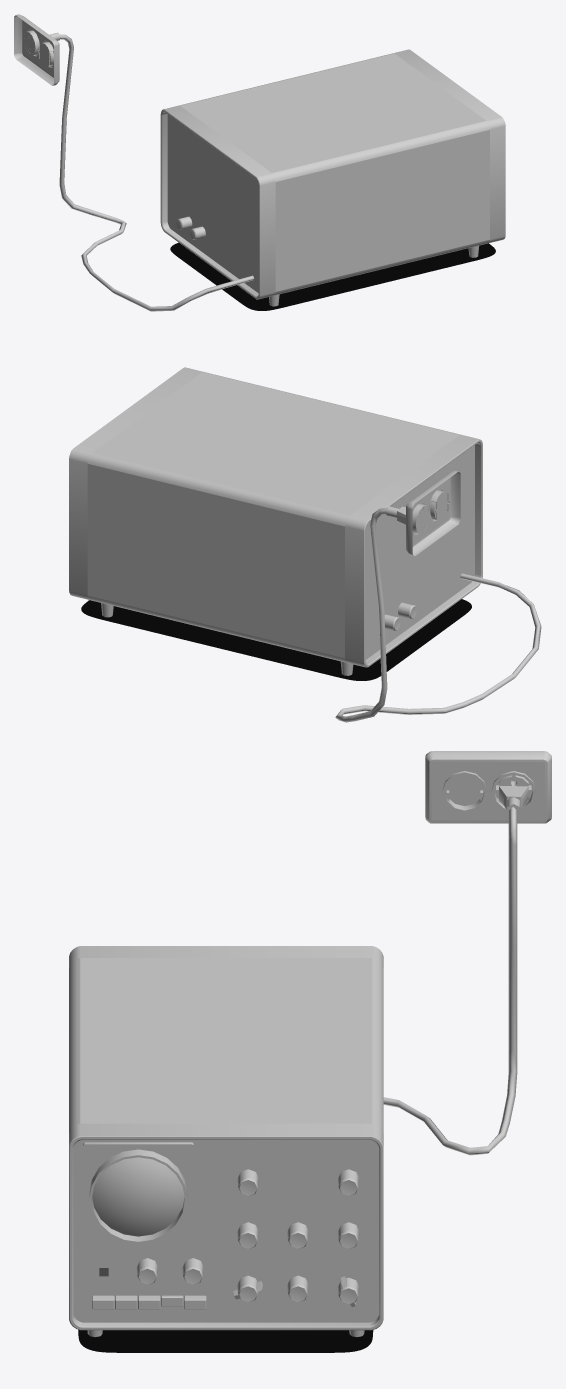
Rendered from monitor_scope.fbx.
3 views of the same model, one above another, from view 1: azimuth 30°, elevation 25°; view 2: azimuth 150°, elevation 25°; view 3: azimuth 270°, elevation 25° (orthographic). The views are drawn at different scales.
Parts seen in each view (by area): view 1: monitor_scope, net_cable, shadow; view 2: monitor_scope, net_cable, shadow; view 3: monitor_scope, net_cable, shadow, oscillogram, noice.
Part boxes in pixels (x1=…): monitor_scope: x1=160, y1=49, x2=505, y2=306; net_cable: x1=14, y1=14, x2=254, y2=311; shadow: x1=170, y1=242, x2=495, y2=310; monitor_scope: x1=69, y1=367, x2=482, y2=675; net_cable: x1=335, y1=470, x2=541, y2=722; shadow: x1=81, y1=599, x2=471, y2=680; monitor_scope: x1=69, y1=946, x2=383, y2=1337; net_cable: x1=383, y1=751, x2=551, y2=1155; shadow: x1=78, y1=1329, x2=373, y2=1352; oscillogram: x1=92, y1=1157, x2=184, y2=1236; noice: x1=92, y1=1157, x2=184, y2=1236.
Size of the model in its own units: 69.7 by 38.77 by 55.62.
